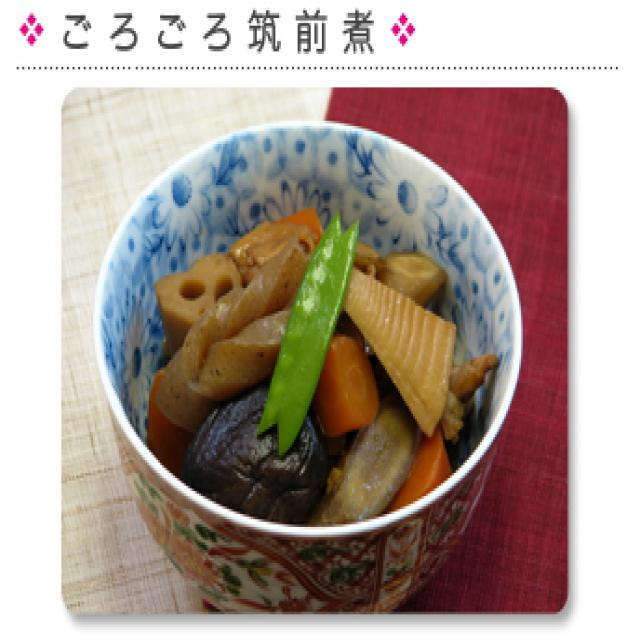鸡肉料理 含炸鸡: (165, 390, 576, 640)
